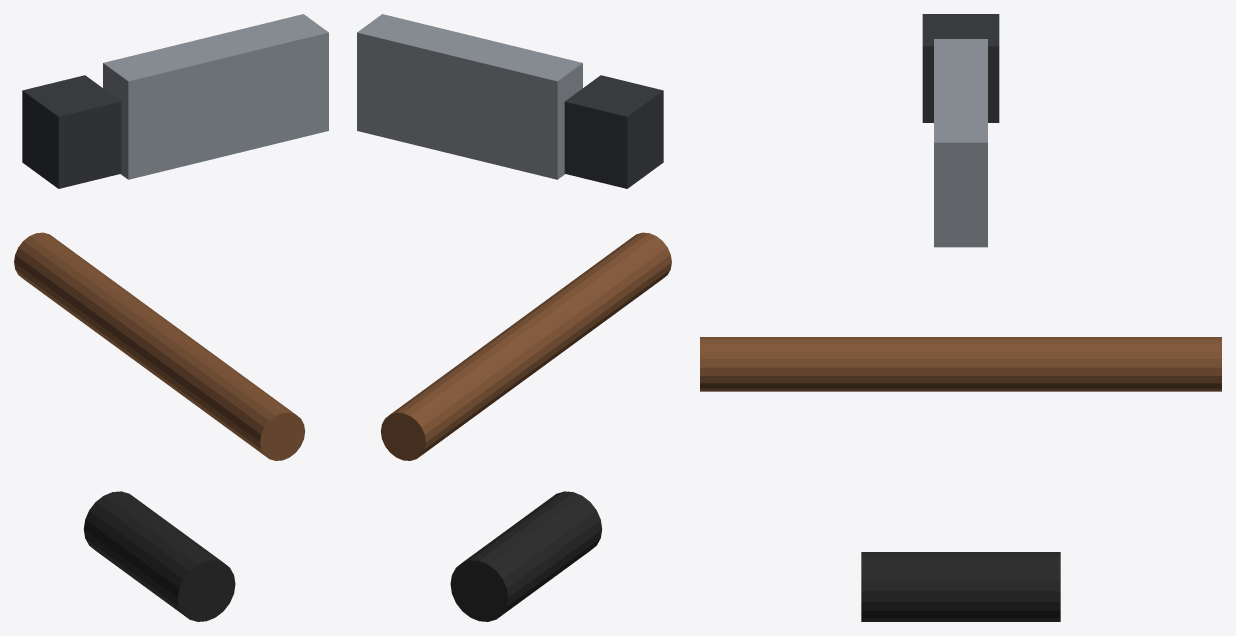
Rendered from hatchet.glb.
The picture shows the model from 3 angles, left to right: view 1: azimuth 30°, elevation 25°; view 2: azimuth 150°, elevation 25°; view 3: azimuth 270°, elevation 25°; orthographic projection. The views are drawn at different scales.
Parts seen in each view (by area): view 1: Head, Handle, Grip, Poll; view 2: Head, Handle, Grip, Poll; view 3: Handle, Grip, Head, Poll.
Boxes of the visible parts, x1,y1,x2,y2 form: Head: [103, 14, 328, 179]; Handle: [14, 232, 305, 460]; Grip: [83, 491, 235, 621]; Poll: [22, 75, 121, 188]; Head: [357, 14, 582, 179]; Handle: [380, 232, 671, 460]; Grip: [450, 491, 602, 621]; Poll: [564, 75, 663, 188]; Handle: [700, 337, 1221, 391]; Grip: [861, 552, 1060, 621]; Head: [934, 39, 987, 247]; Poll: [922, 14, 999, 122].
Bounding box in the file's own units: 0.22 × 0.4005 × 0.34.
